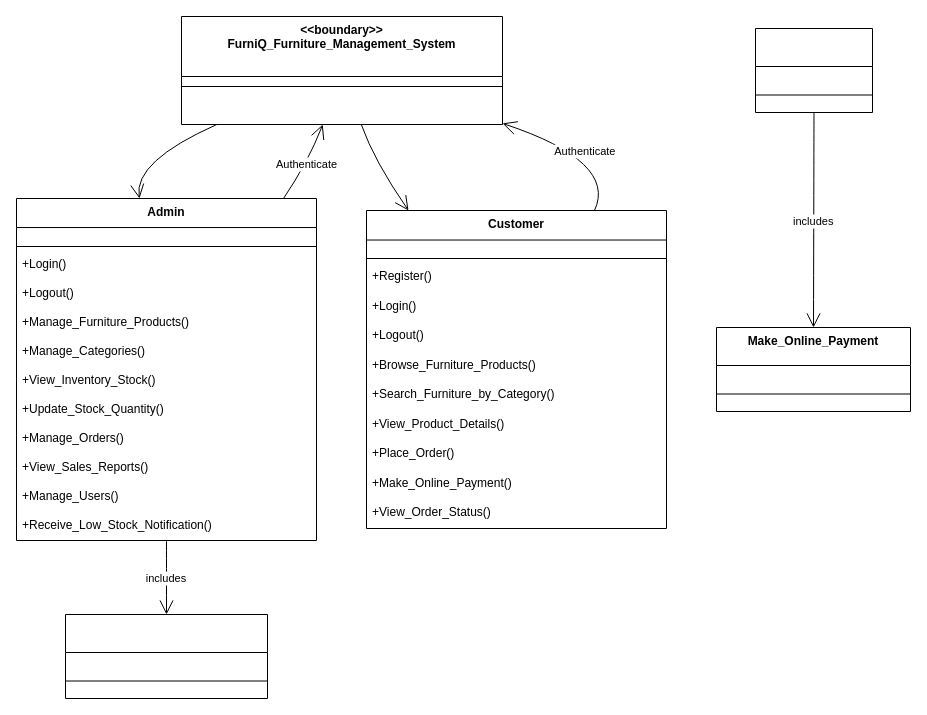
Some shapes in this 927 by 715 pixel diagram are drawn without their labels. Each missing label, with the centre of its shape:
Place_Order: point 813,70
Update_Stock_Quantity: point 166,656
